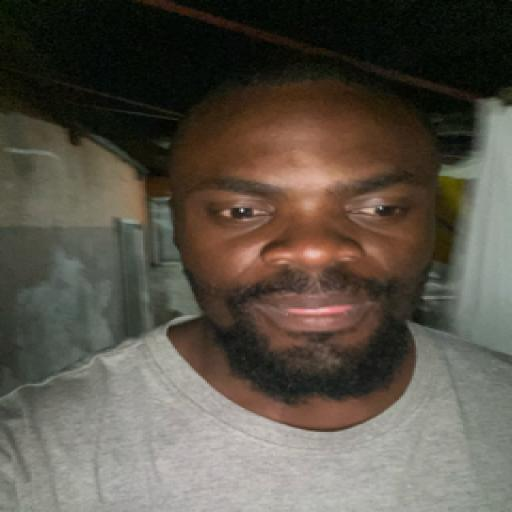JEANLUC: (146, 54, 440, 412)
